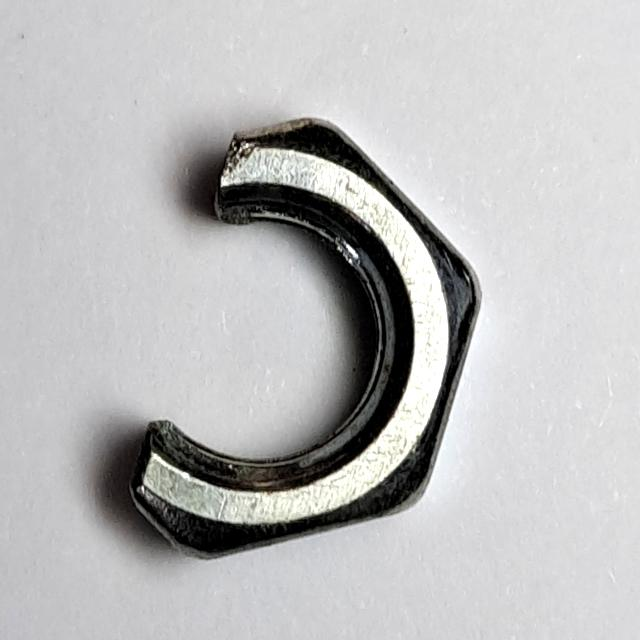Fracture: (111, 102, 497, 579)
